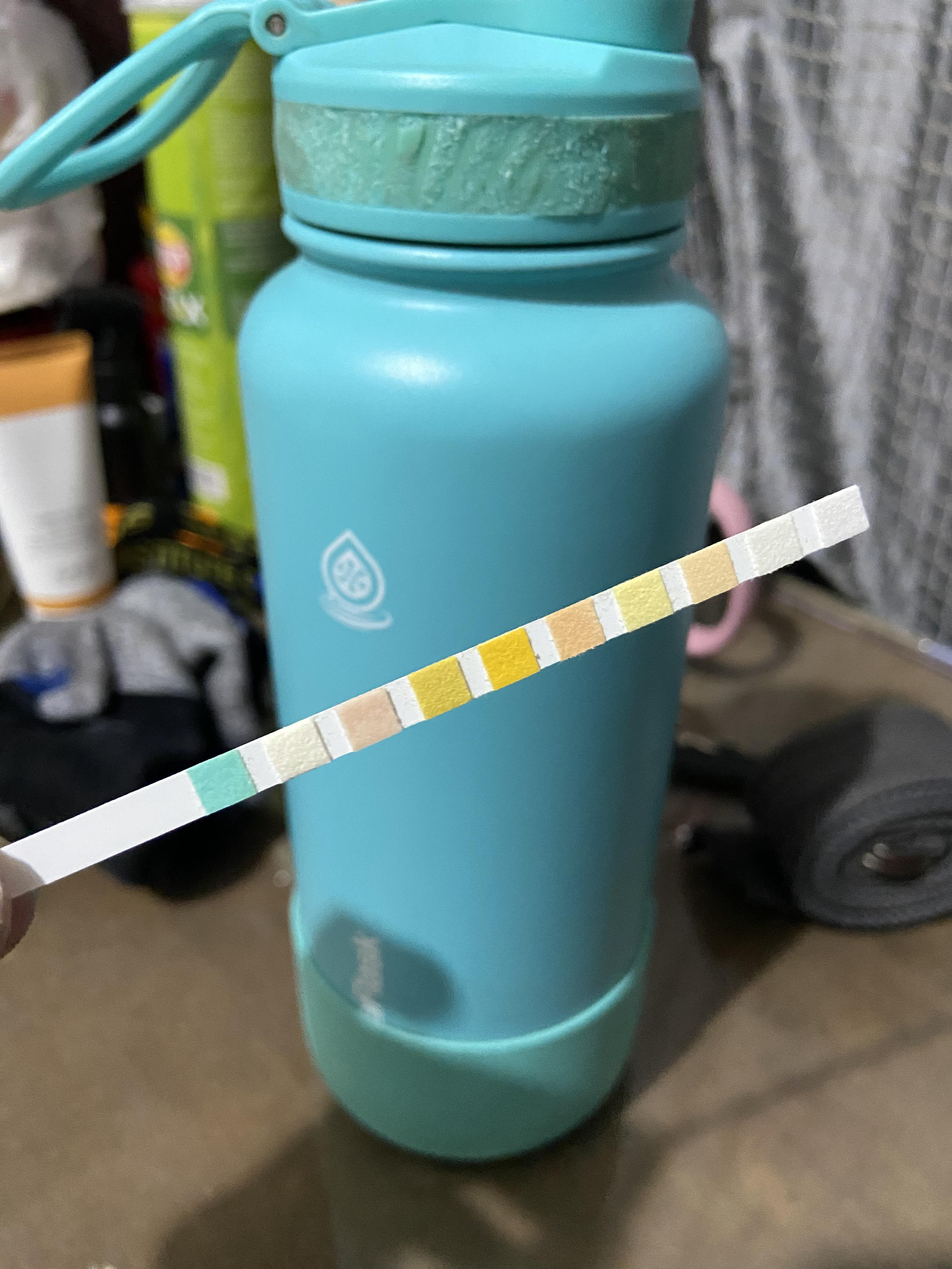Bilirubin: (278, 730, 318, 768)
Blood: (490, 641, 530, 677)
Glucose: (203, 762, 244, 801)
Ketone: (352, 698, 390, 739)
Leukocytes: (822, 497, 862, 533)
Nitrite: (754, 526, 796, 561)
Protein: (625, 582, 664, 619)
SpGravity: (423, 668, 461, 705)
Urobilinogen: (691, 554, 730, 589)
pH: (559, 610, 596, 649)
strip: (2, 485, 872, 897)
